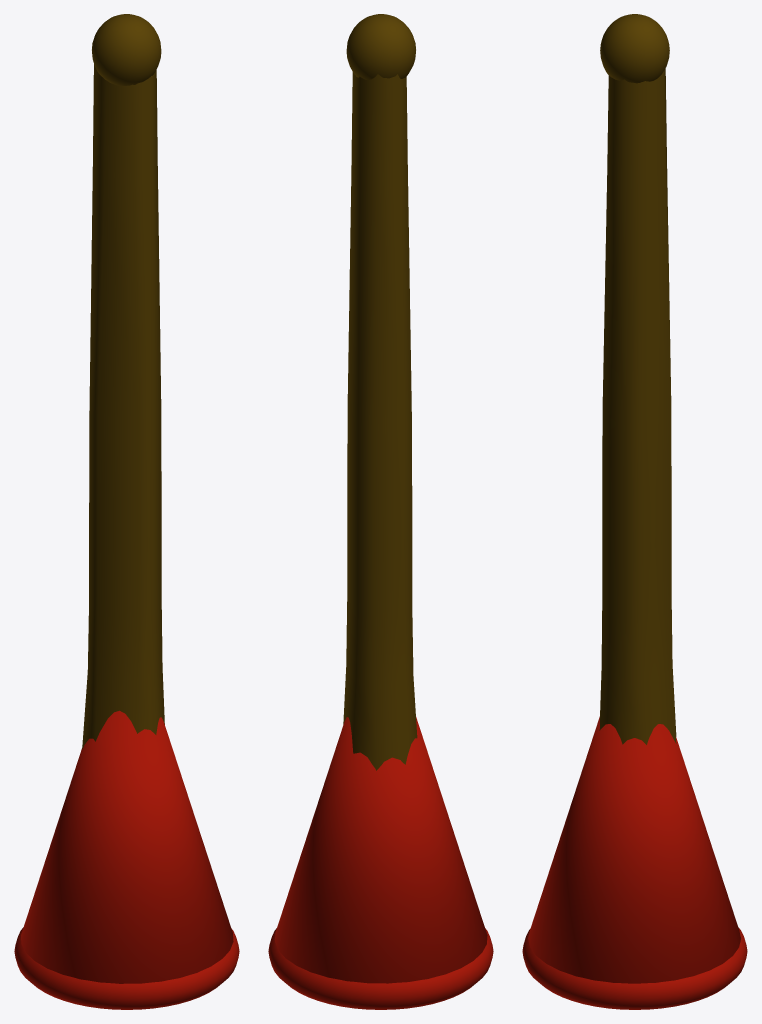
File: Plunger1.fbx
3 renders of one model, left to right at view 1: azimuth 30°, elevation 25°; view 2: azimuth 150°, elevation 25°; view 3: azimuth 270°, elevation 25°, orthographic.
Visible parts, largest first — view 1: Plunger; view 2: Plunger; view 3: Plunger.
Boxes of the visible parts, x1,y1,x2,y2 form: Plunger: (14,14,239,1009); Plunger: (268,14,493,1009); Plunger: (522,14,747,1009).
Size of the model in its own units: 411 by 1917 by 411.
